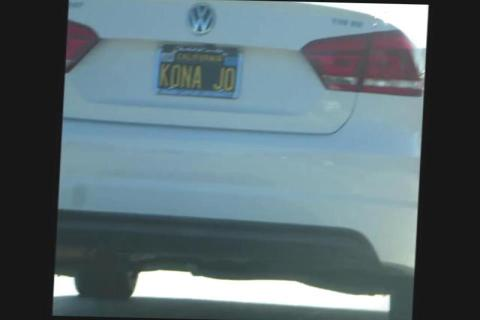LicensePlate: (150, 38, 248, 106)
